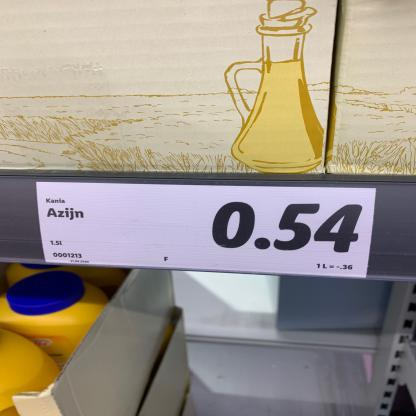prtg: (37, 183, 377, 280)
